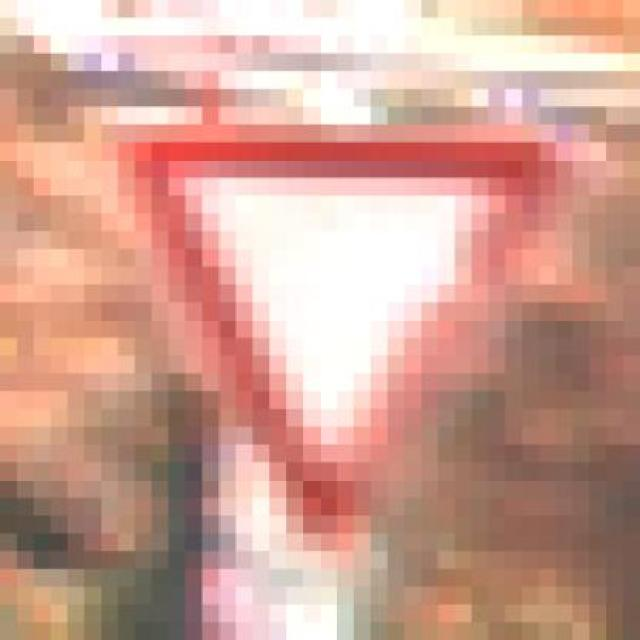Give Way: (84, 107, 590, 551)
